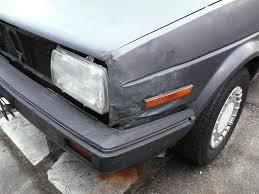Dent: (108, 45, 179, 131)
